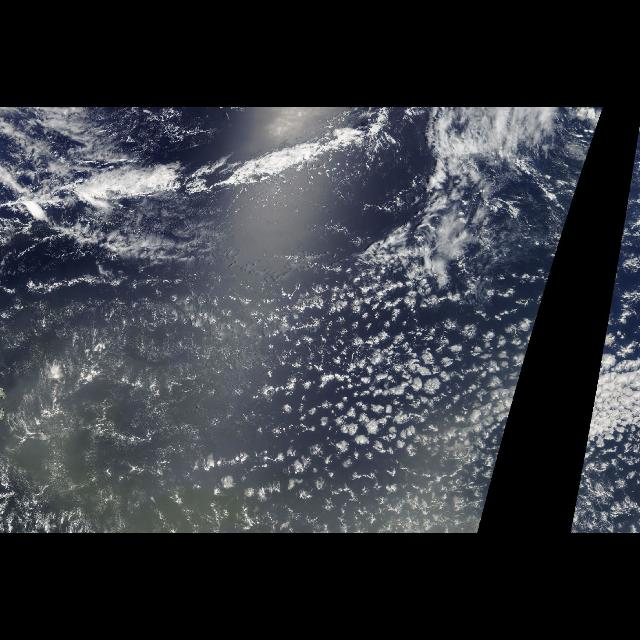Flower: (194, 285, 548, 531), (568, 285, 638, 531)
Gravel: (34, 269, 274, 453)
Sugar: (2, 112, 202, 532)
